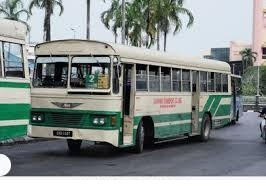bus: (29, 40, 235, 154)
